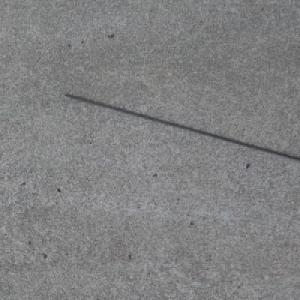LuggagePart: (62, 92, 300, 162)
